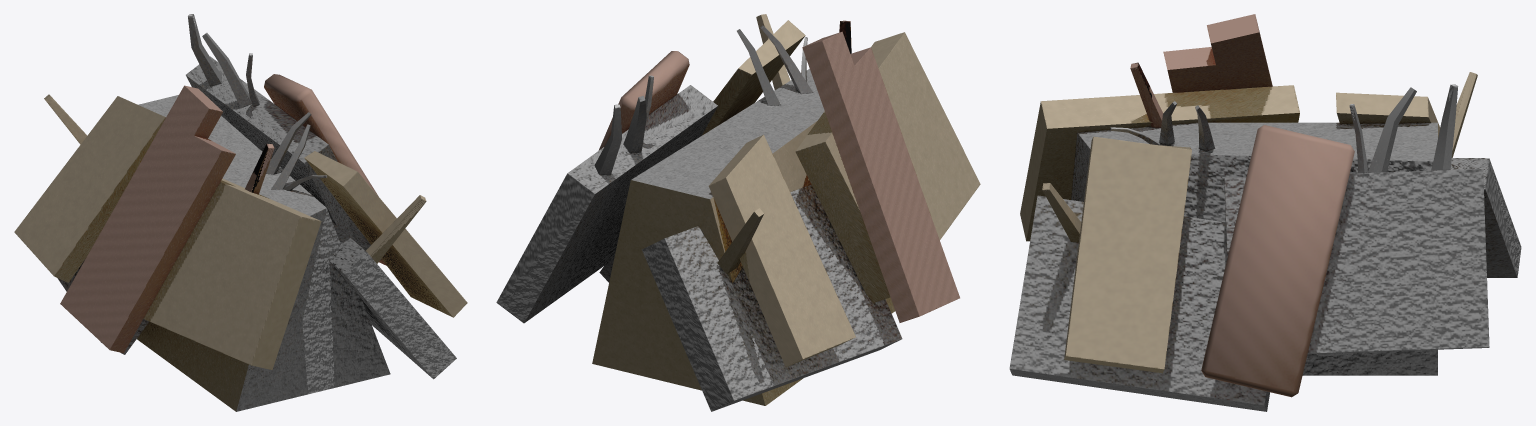
Rendered from barricade.fbx.
3 views of the same model, side by side, from view 1: azimuth 30°, elevation 25°; view 2: azimuth 150°, elevation 25°; view 3: azimuth 270°, elevation 25° (orthographic). The views are drawn at different scales.
Parts seen in each view (by area): view 1: barricade; view 2: barricade; view 3: barricade.
Part boxes in pixels (box(x1,y1,x2,y2)): barricade: box(14, 14, 467, 411); barricade: box(496, 14, 980, 411); barricade: box(1009, 14, 1521, 411).
Size of the model in its own units: 248 by 195 by 299.
